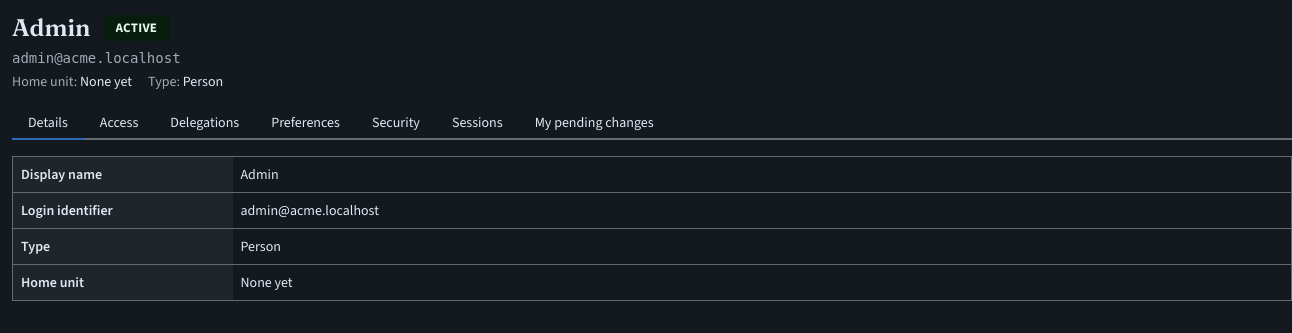
Test case: My profile › says what will appear when the person holds no role yet [ADR-0027]
Click the tab "Access".
click(119, 124)  # box [84, 108, 154, 140]
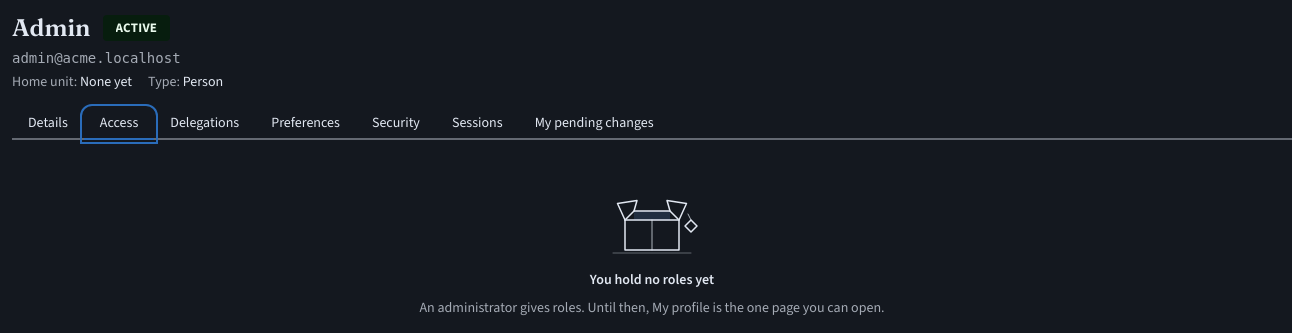
Expected: the heading "You hold no roles yet" is shown, [590, 270, 714, 290]
